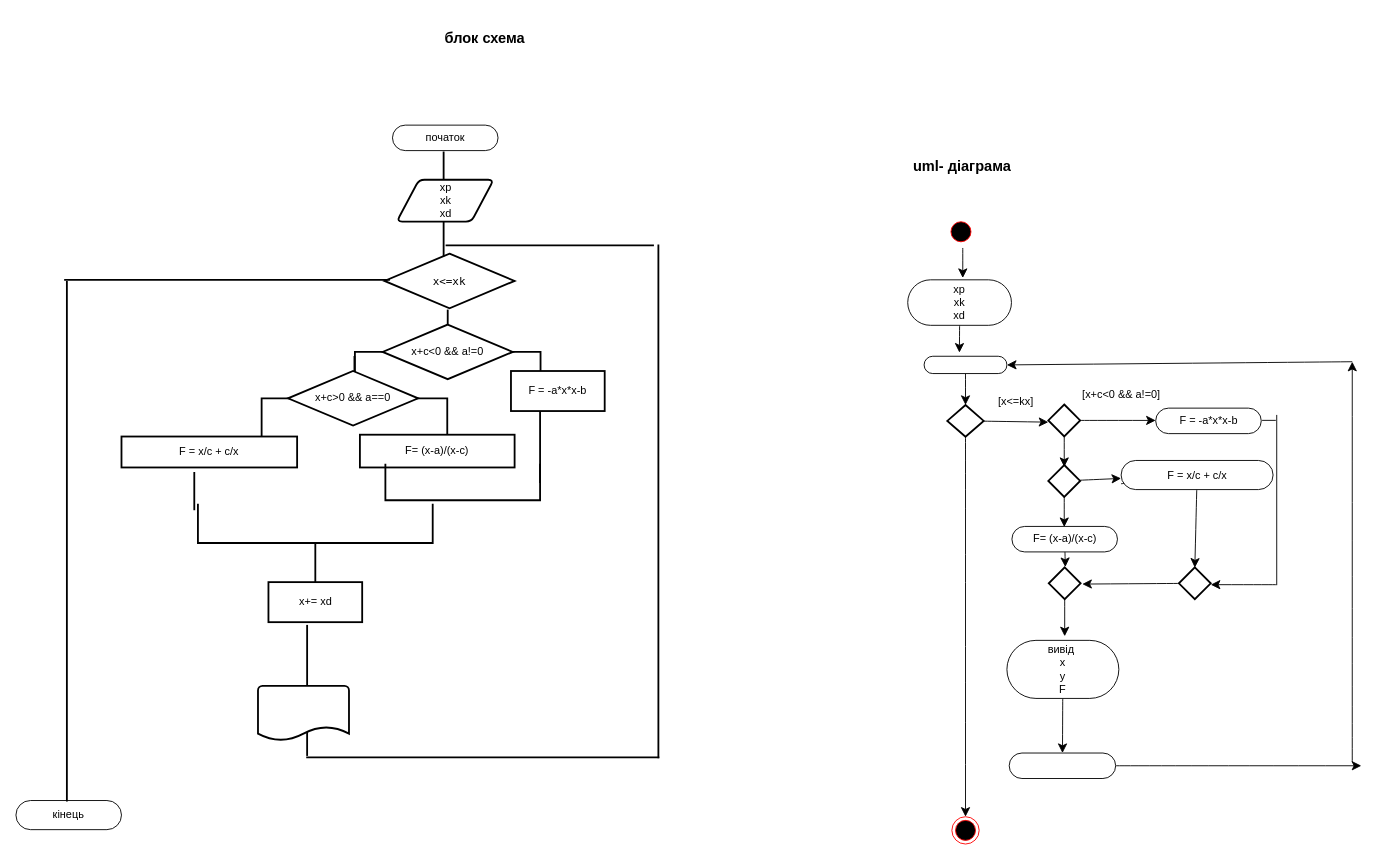
This 1377x860 diagram has some shape labels left out. The shapes that lost their labels are listed below. From the top down, each one's centre as x and y in pixels, then its label:
At point 965,364: "x<=kx".
At point 303,713: "x y F".
At point 1062,765: "x+dx".
